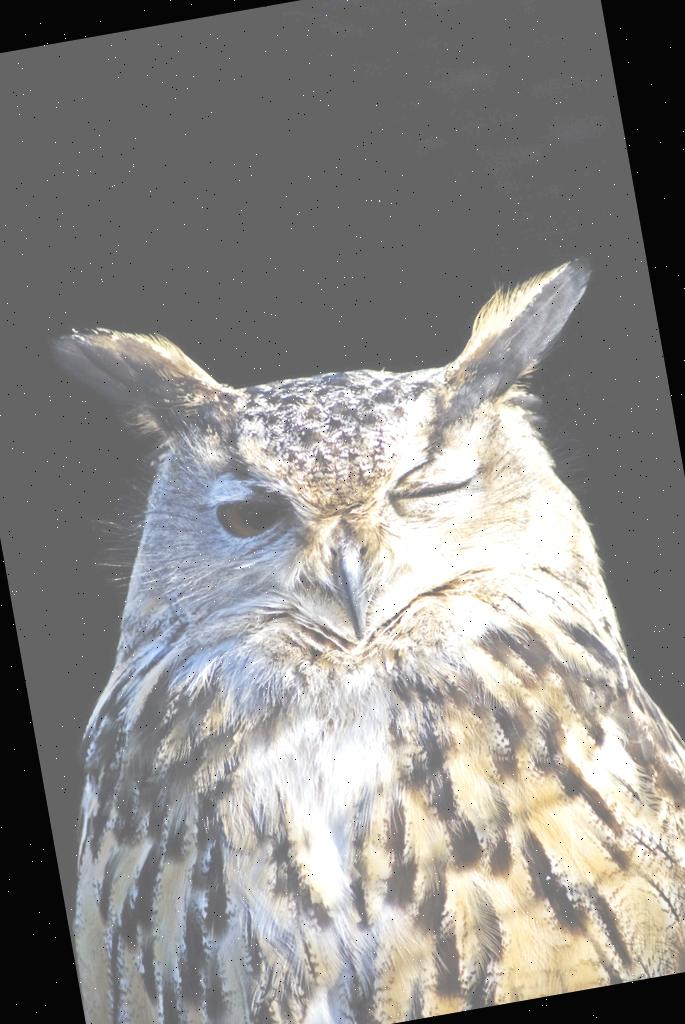Owl: (0, 235, 685, 1024)
